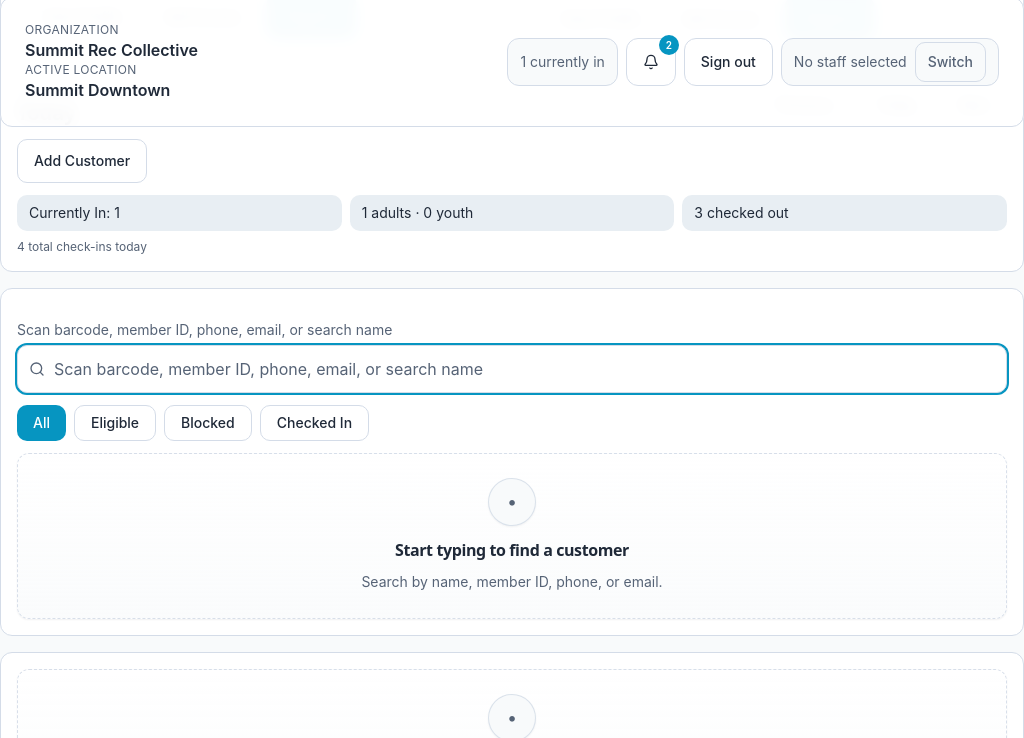
it: CustomerList › customers page check in records staff attribution in shared check-in log
(page scrolled)
Click the button "Switch".
click(950, 62)  # box x1=915 y1=42 x2=986 y2=82
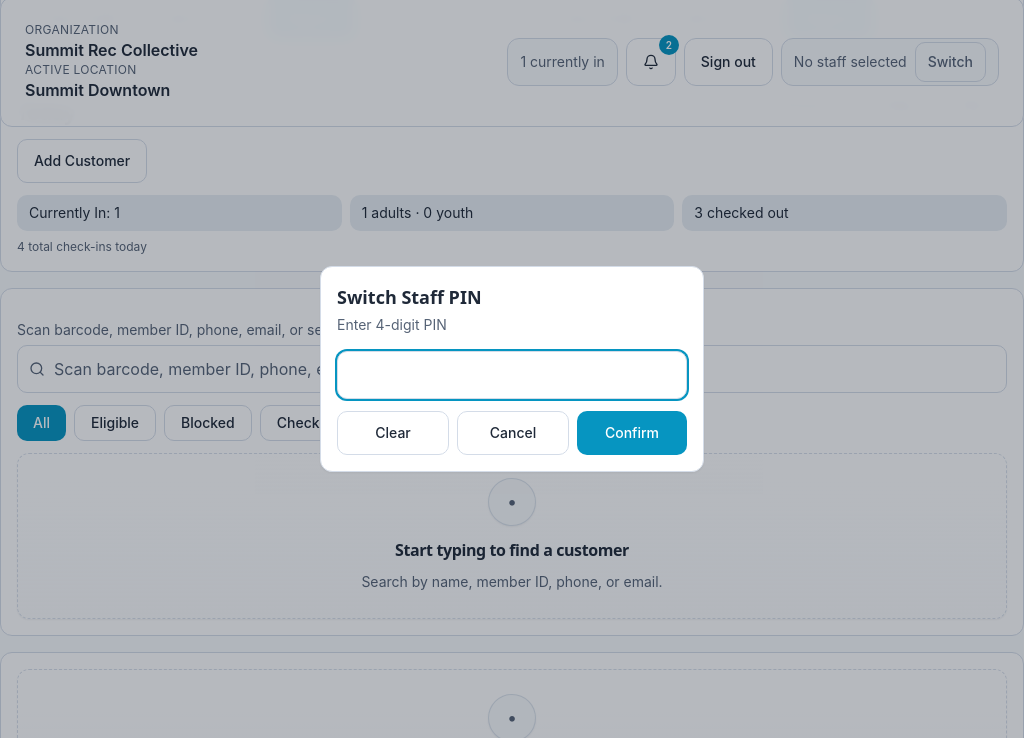
Type "2222" into the password field named "Staff PIN input".
click(512, 375); type("2222")  # box x1=337 y1=351 x2=687 y2=399
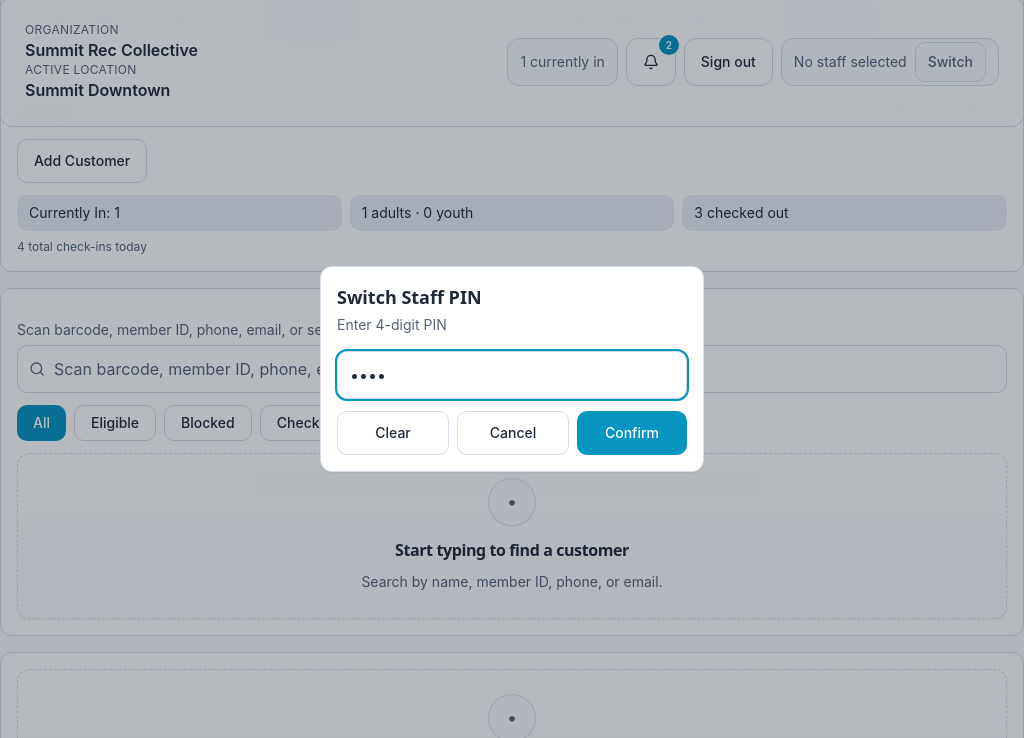
Click the button "Confirm".
click(632, 433)  # box x1=577 y1=411 x2=687 y2=455
(page scrolled)
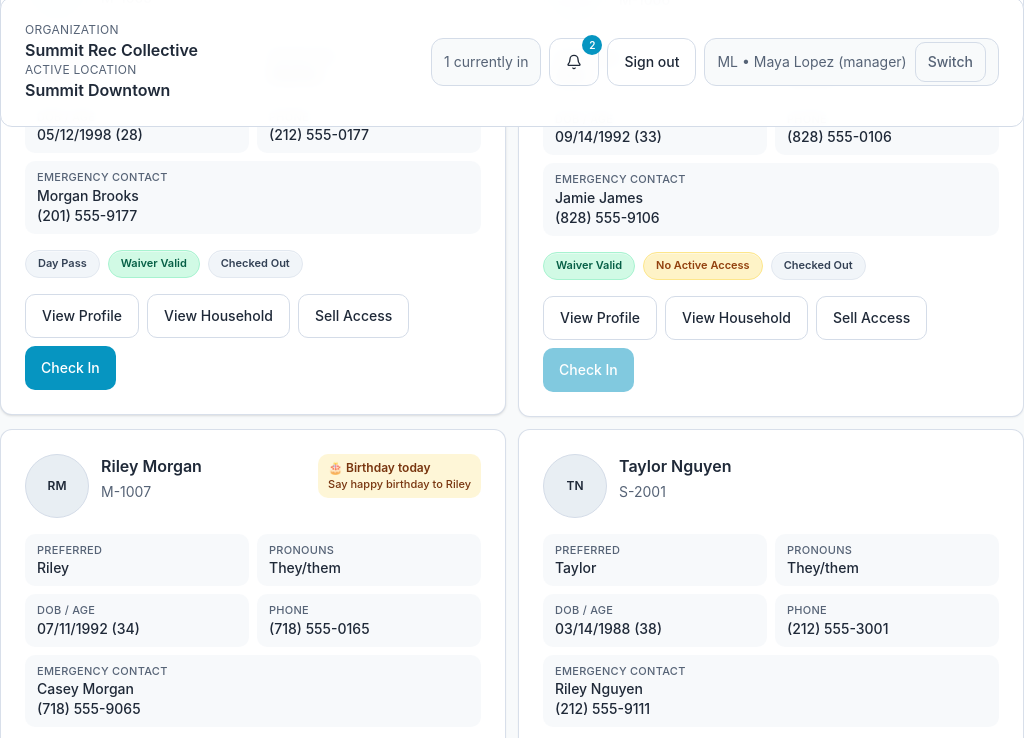
Click the button "Check In" below "Day Pass".
click(70, 368)  # box x1=25 y1=346 x2=116 y2=390
(page scrolled)
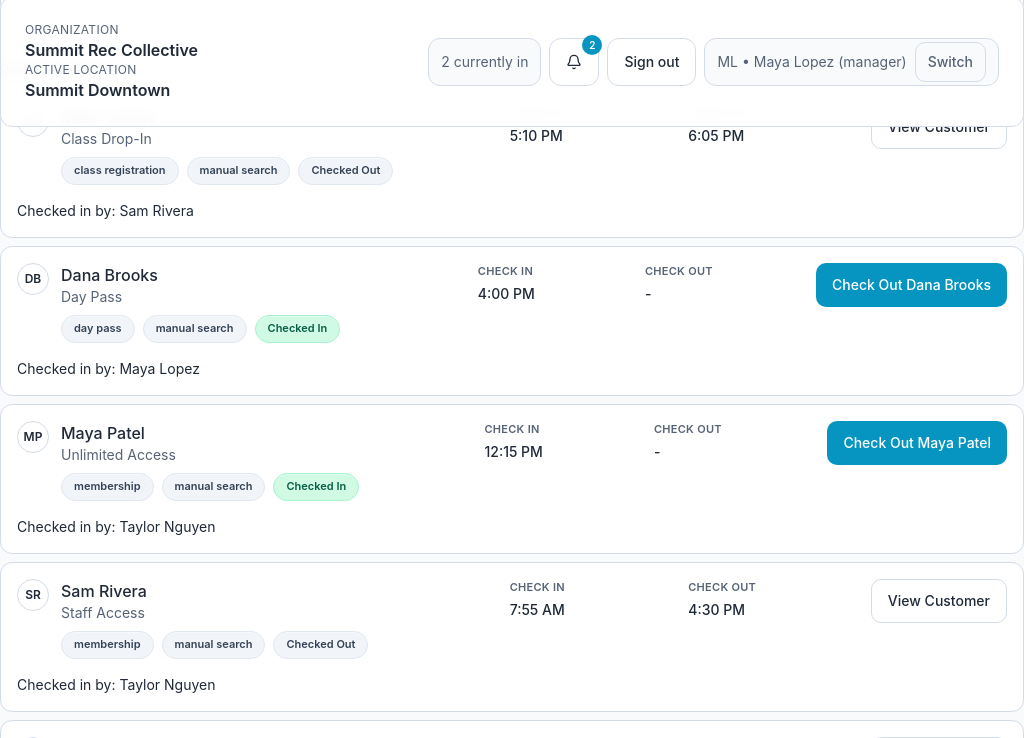
Now the text "Checked in by: Maya Lopez" is shown, box x1=17 y1=360 x2=200 y2=377
